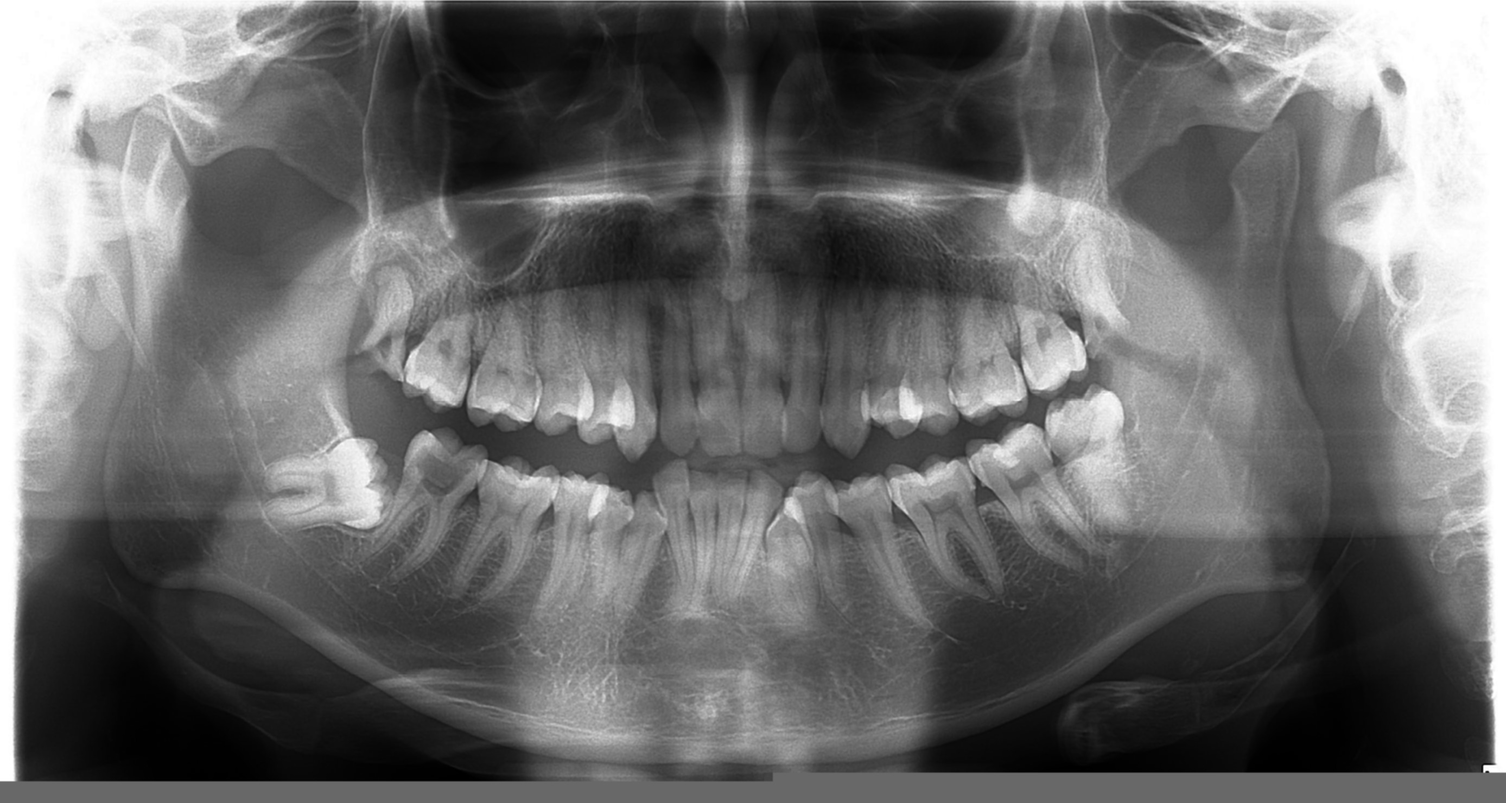Individual Tooth: (353, 429, 490, 587), (962, 424, 1105, 569), (884, 451, 1003, 597), (450, 454, 562, 603), (822, 476, 924, 622), (1045, 387, 1136, 539), (603, 490, 677, 650), (260, 438, 385, 530), (948, 291, 1030, 427), (537, 472, 609, 611), (898, 271, 959, 435), (573, 291, 636, 444), (738, 258, 786, 458), (819, 279, 872, 457), (532, 286, 594, 435), (466, 308, 541, 430), (607, 280, 657, 461), (866, 279, 922, 437), (788, 473, 850, 610), (657, 291, 705, 456), (726, 471, 784, 606), (696, 289, 742, 458), (582, 482, 635, 625), (352, 263, 416, 381), (765, 493, 819, 620), (1018, 308, 1091, 400), (404, 314, 475, 408), (780, 296, 823, 451), (653, 459, 694, 614), (714, 469, 749, 605), (689, 470, 716, 600)
